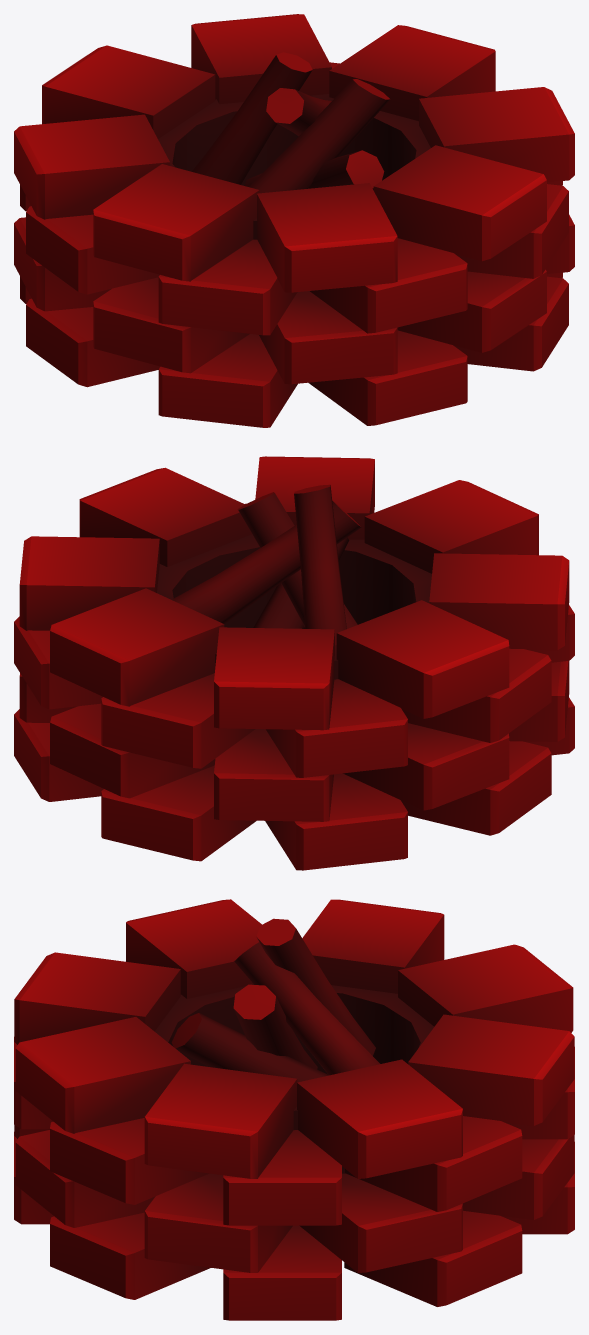
Rendered from ConcreteFirepit.glb.
The picture shows the model from 3 angles, top to bottom: view 1: azimuth 30°, elevation 25°; view 2: azimuth 150°, elevation 25°; view 3: azimuth 270°, elevation 25°; orthographic projection. The views are drawn at different scales.
Parts seen in each view (by area): view 1: ConcreteFirepit; view 2: ConcreteFirepit; view 3: ConcreteFirepit.
Part boxes in pixels (box(x1,y1,x2,y2)): ConcreteFirepit: box(14, 14, 574, 427); ConcreteFirepit: box(14, 456, 574, 870); ConcreteFirepit: box(14, 899, 574, 1320).
Size of the model in its own units: 8.41 by 4.53 by 8.41.
